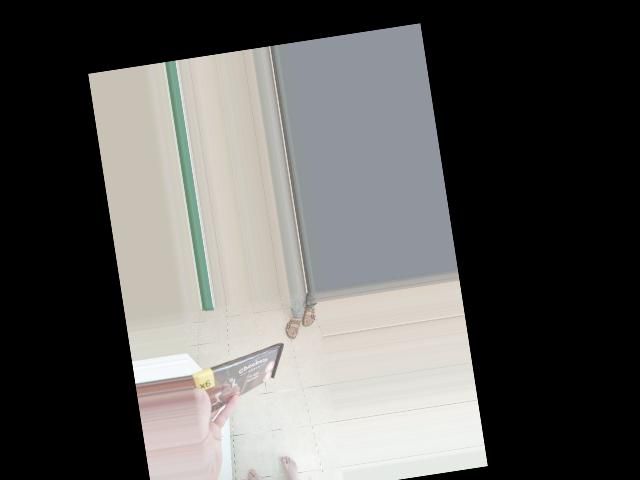chocolate: (225, 330, 318, 441)
